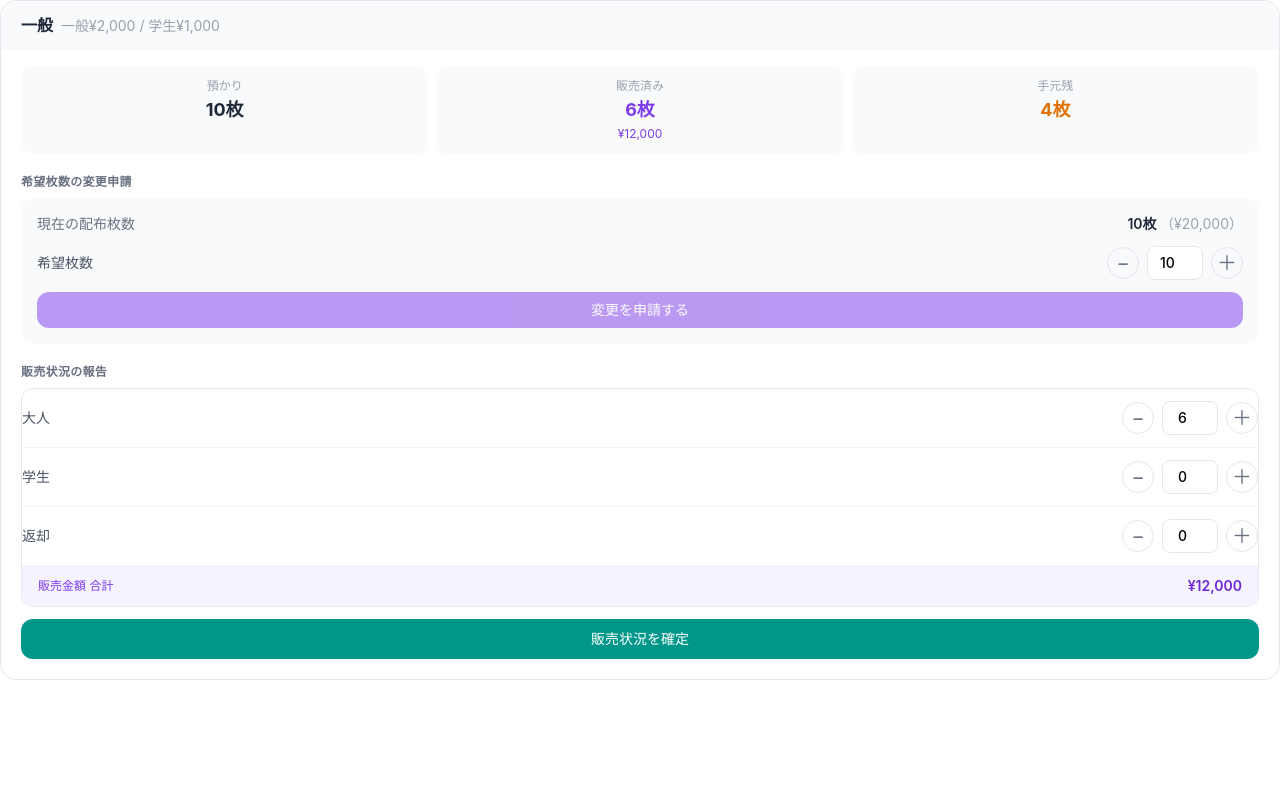
Test: BatchCard（保存の失敗） › 締め切り後に販売状況を確定するとサーバーの理由を表示し、入力を残す
Click the button named "大人を増やす": coordinates (1242, 418) [1226,402,1258,434]
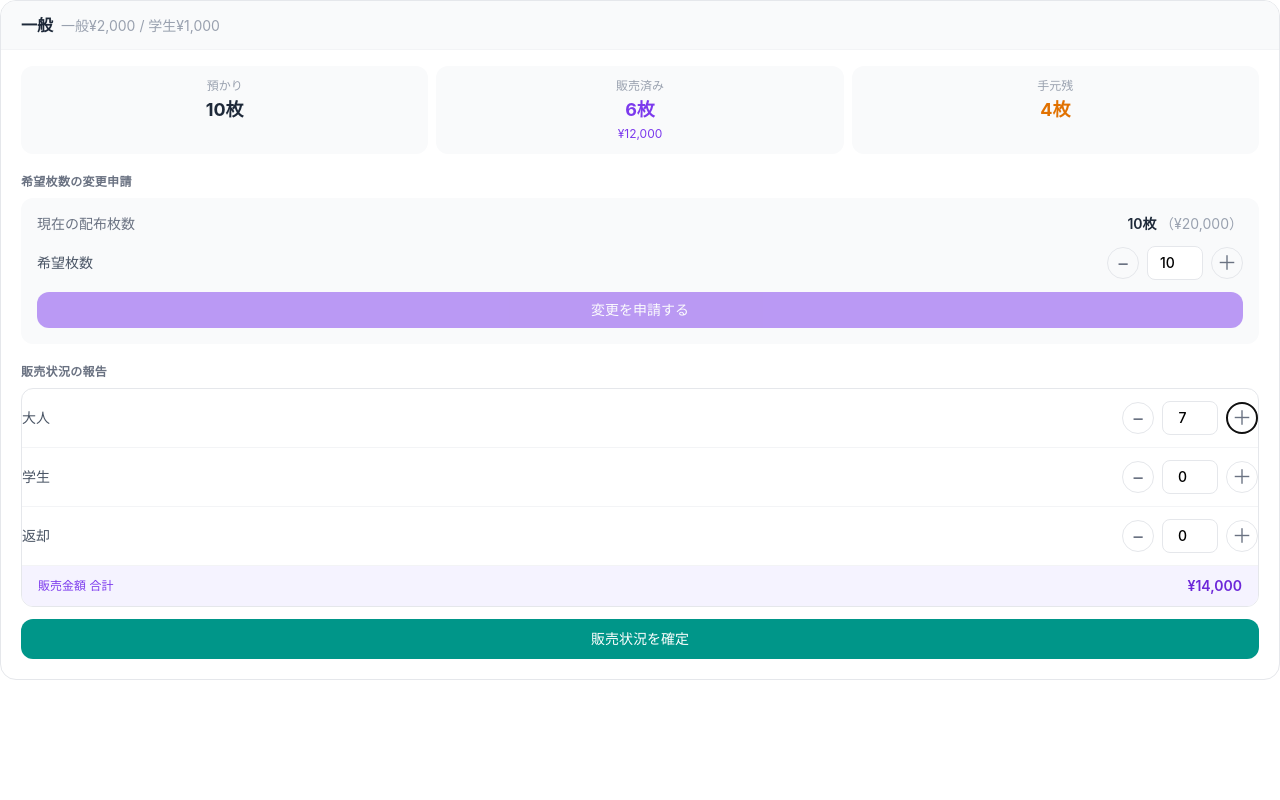
Click the button "販売状況を確定": coordinates (640, 639) [21,619,1259,659]
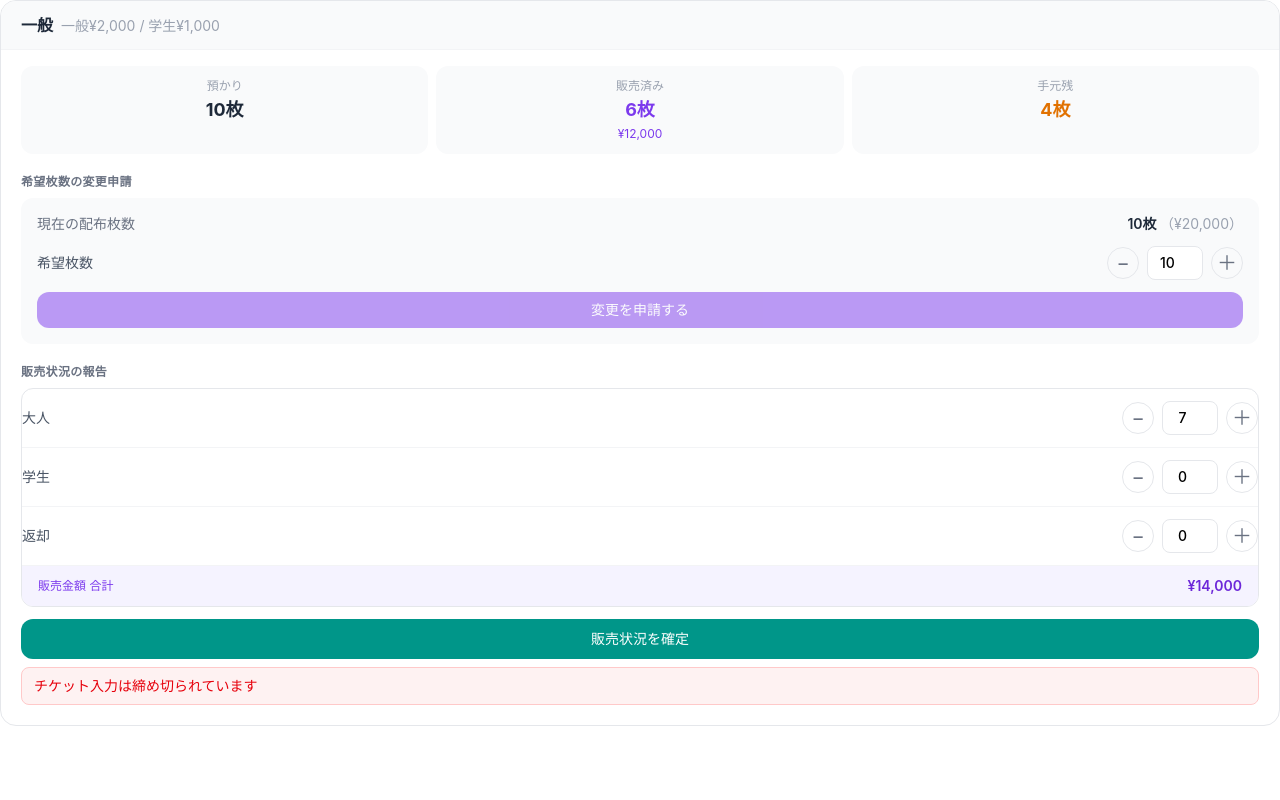
Expected: the message reads "チケット入力は締め切られています", [34,677,258,694]
